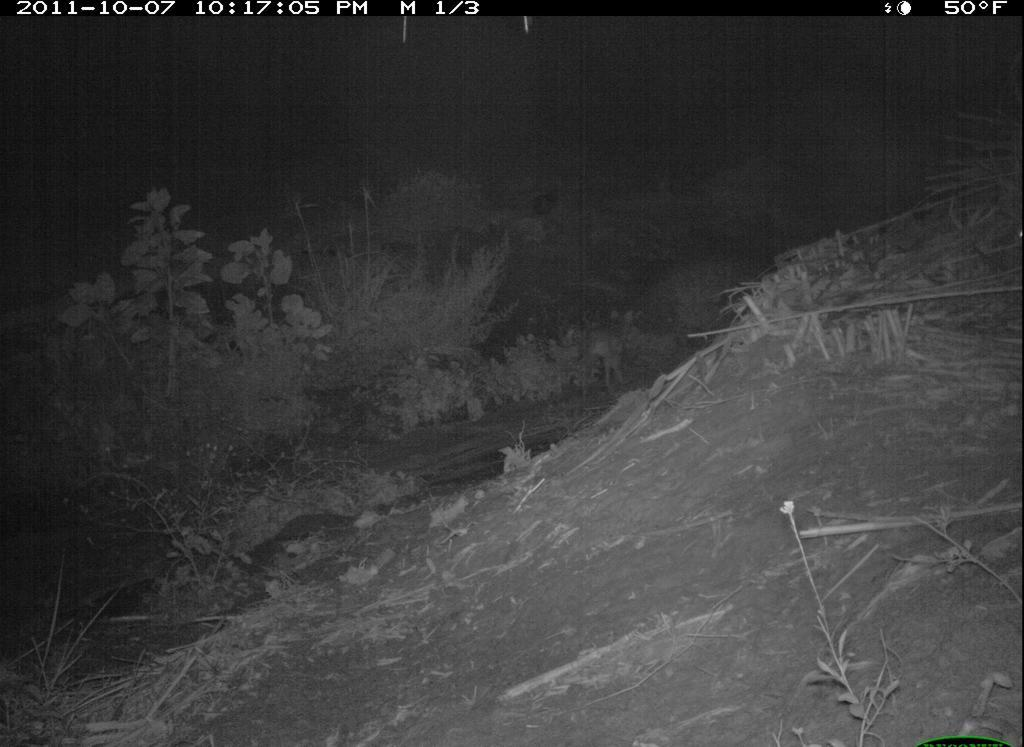coyote: (569, 305, 639, 404)
